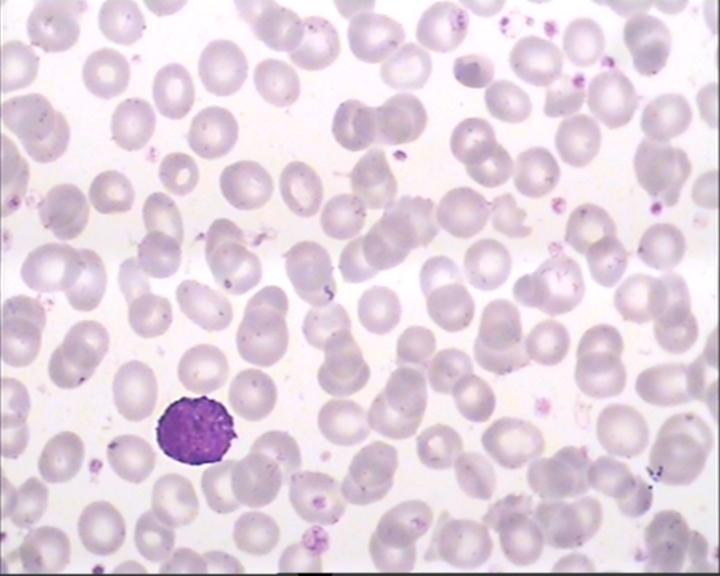baso: (151, 391, 240, 470)
